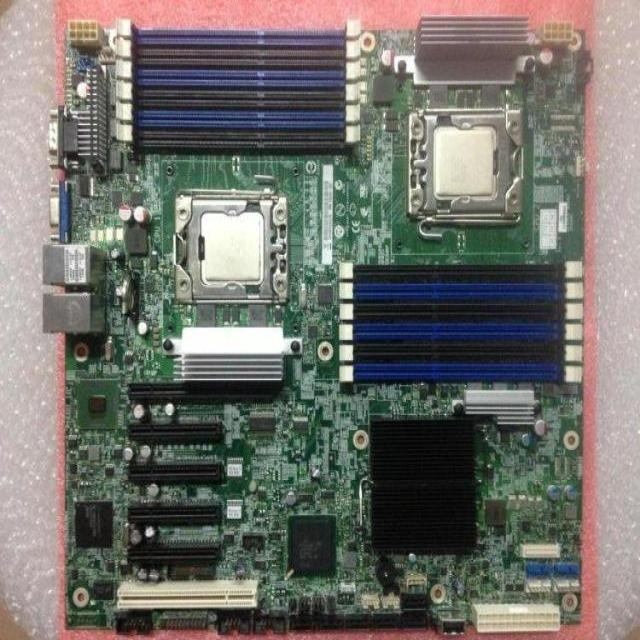CPU: (201, 213, 262, 286), (434, 128, 494, 198)
